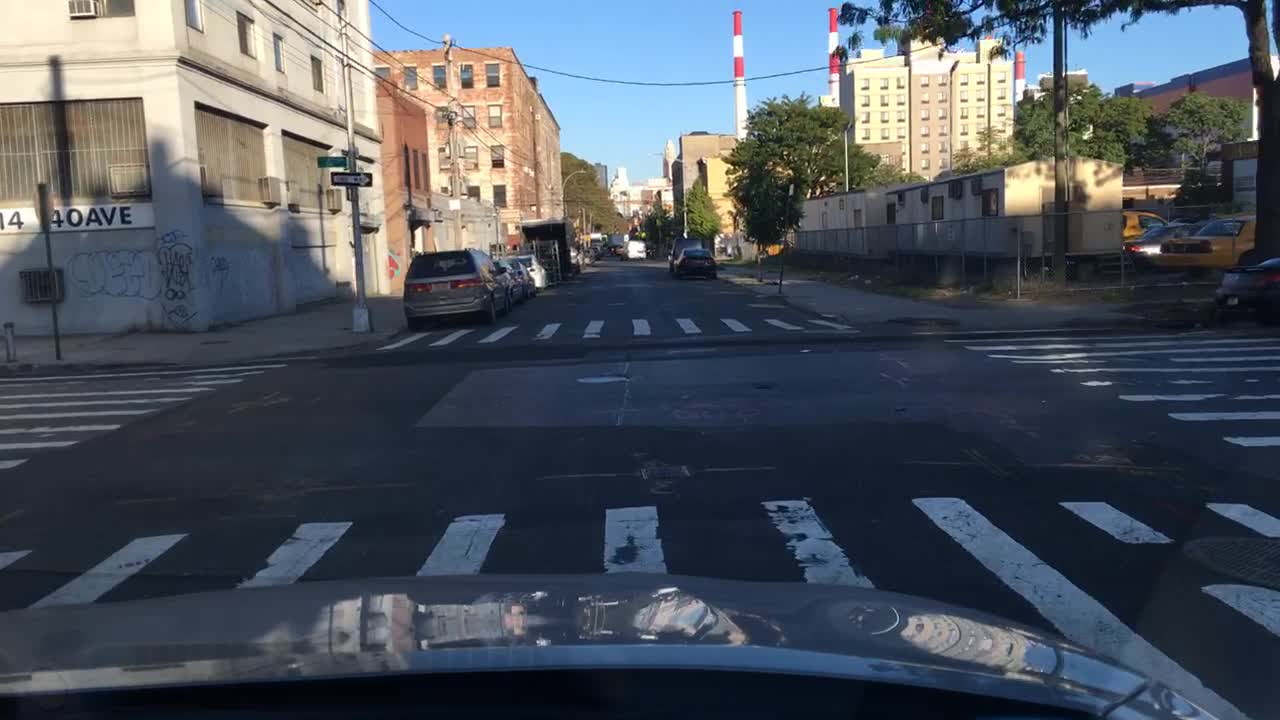car: (405, 247, 509, 329), (1163, 214, 1279, 269), (1213, 256, 1279, 326), (1127, 220, 1189, 271), (673, 248, 719, 281), (510, 253, 551, 289), (492, 261, 523, 308), (1121, 207, 1166, 238), (499, 257, 536, 294), (666, 238, 705, 270), (624, 242, 646, 261), (576, 247, 592, 262), (584, 244, 601, 257), (591, 238, 605, 252), (610, 243, 620, 255)
traffic sign: (328, 171, 374, 184), (318, 153, 348, 162)
truck: (518, 217, 584, 280)
